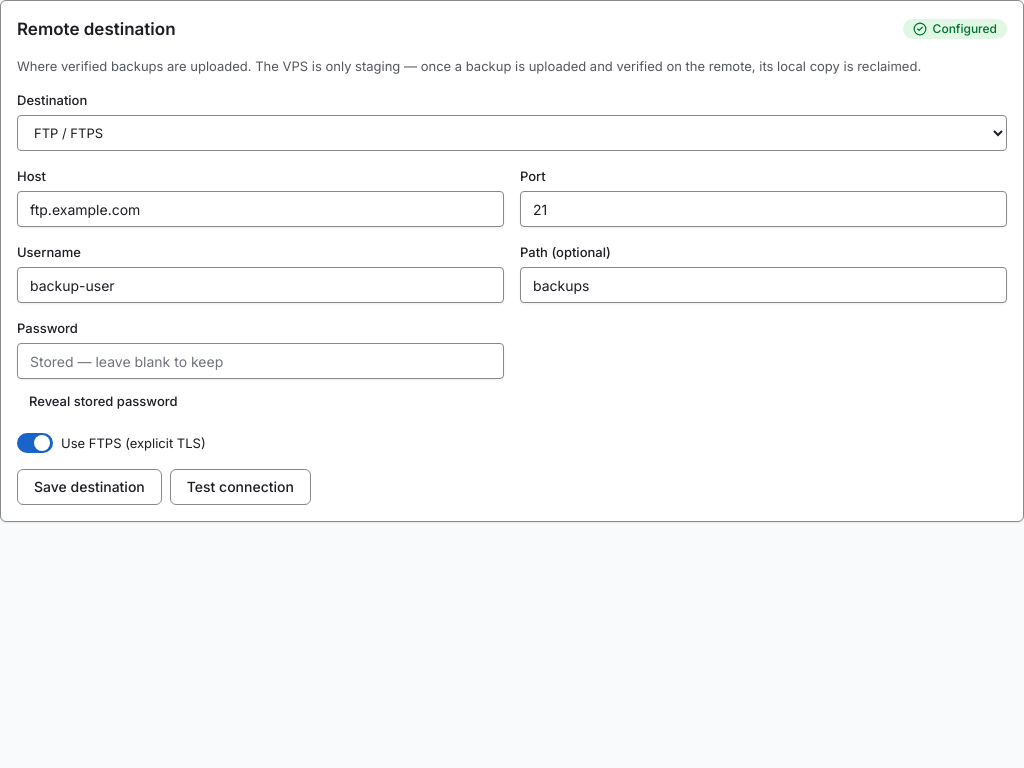
Scenario: RemoteDestinationCard › seeds the FTP fields from an ftp status, keeps the password masked, reveals on demand
Expected: the text "Configured" is shown, x1=933 y1=21 x2=997 y2=37
Expected: the field labelled "Host" holds "ftp.example.com", x1=17 y1=191 x2=504 y2=227
Click the button "Reveal stored password" at (103, 401), box x1=17 y1=385 x2=190 y2=417
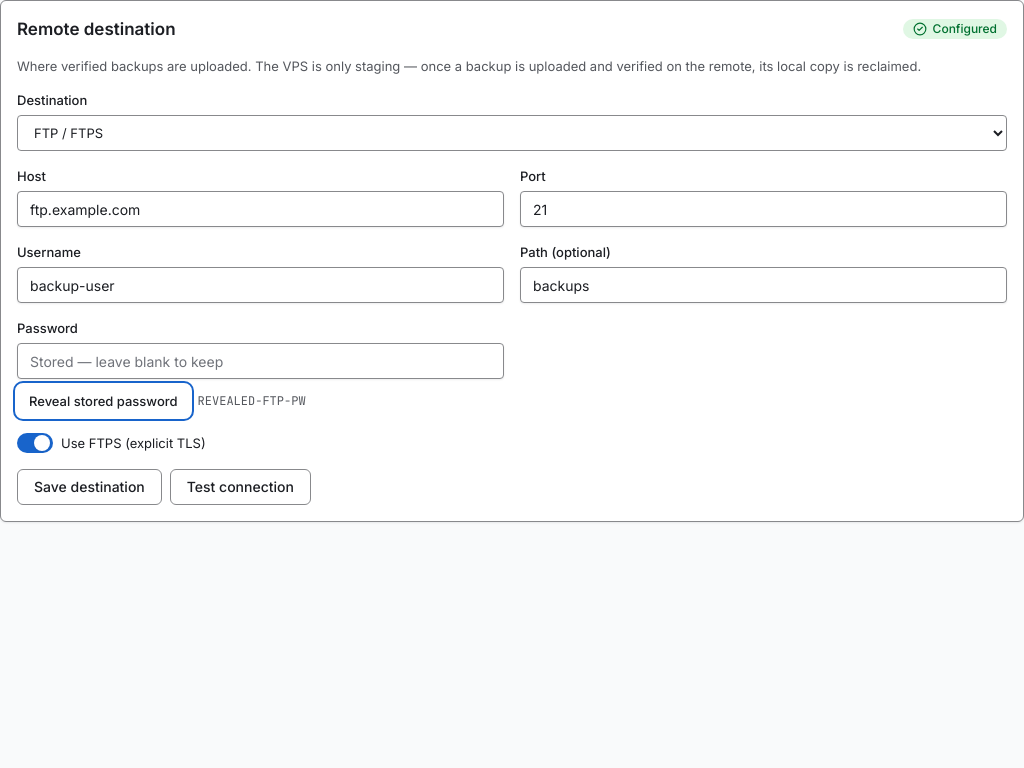
Expected: the text "REVEALED-FTP-PW" is shown, x1=198 y1=392 x2=306 y2=410
